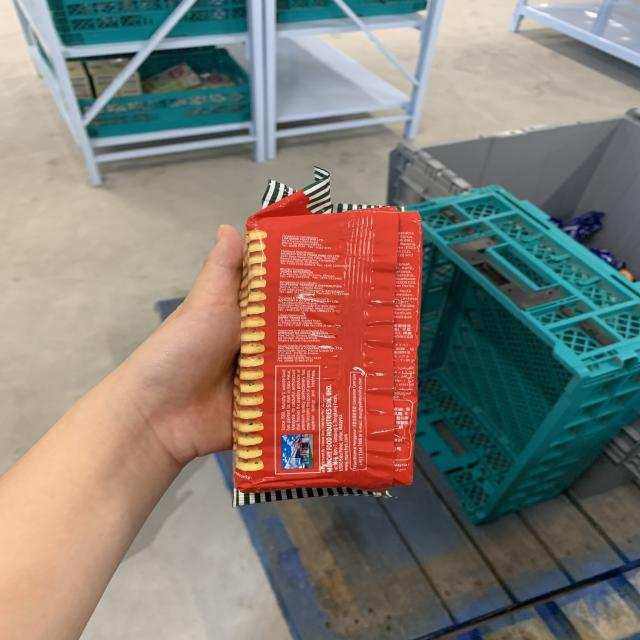object_name: (250, 217, 406, 492)
